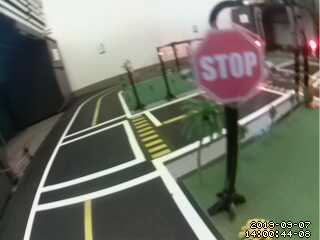Stop_Sign: (194, 32, 268, 105)
